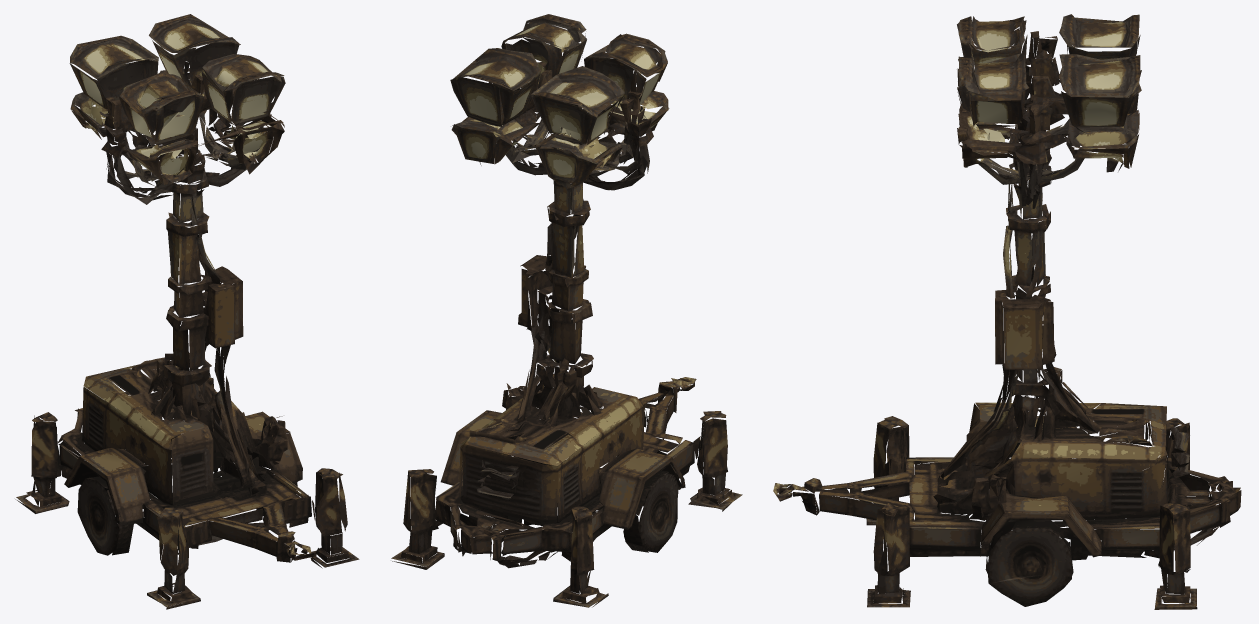
Rendered from yd_floodlight.glb.
3 views of the same model, side by side, from view 1: azimuth 30°, elevation 25°; view 2: azimuth 150°, elevation 25°; view 3: azimuth 270°, elevation 25° (orthographic). The views are drawn at different scales.
Parts seen in each view (by area): view 1: yd_floodlight; view 2: yd_floodlight; view 3: yd_floodlight.
Boxes of the visible parts, x1,y1,x2,y2 form: yd_floodlight: (15, 14, 359, 609); yd_floodlight: (391, 14, 742, 607); yd_floodlight: (773, 14, 1241, 609).
Size of the model in its own units: 2.06 by 4.74 by 3.92.
Materials: 1 (1 with a texture image).
